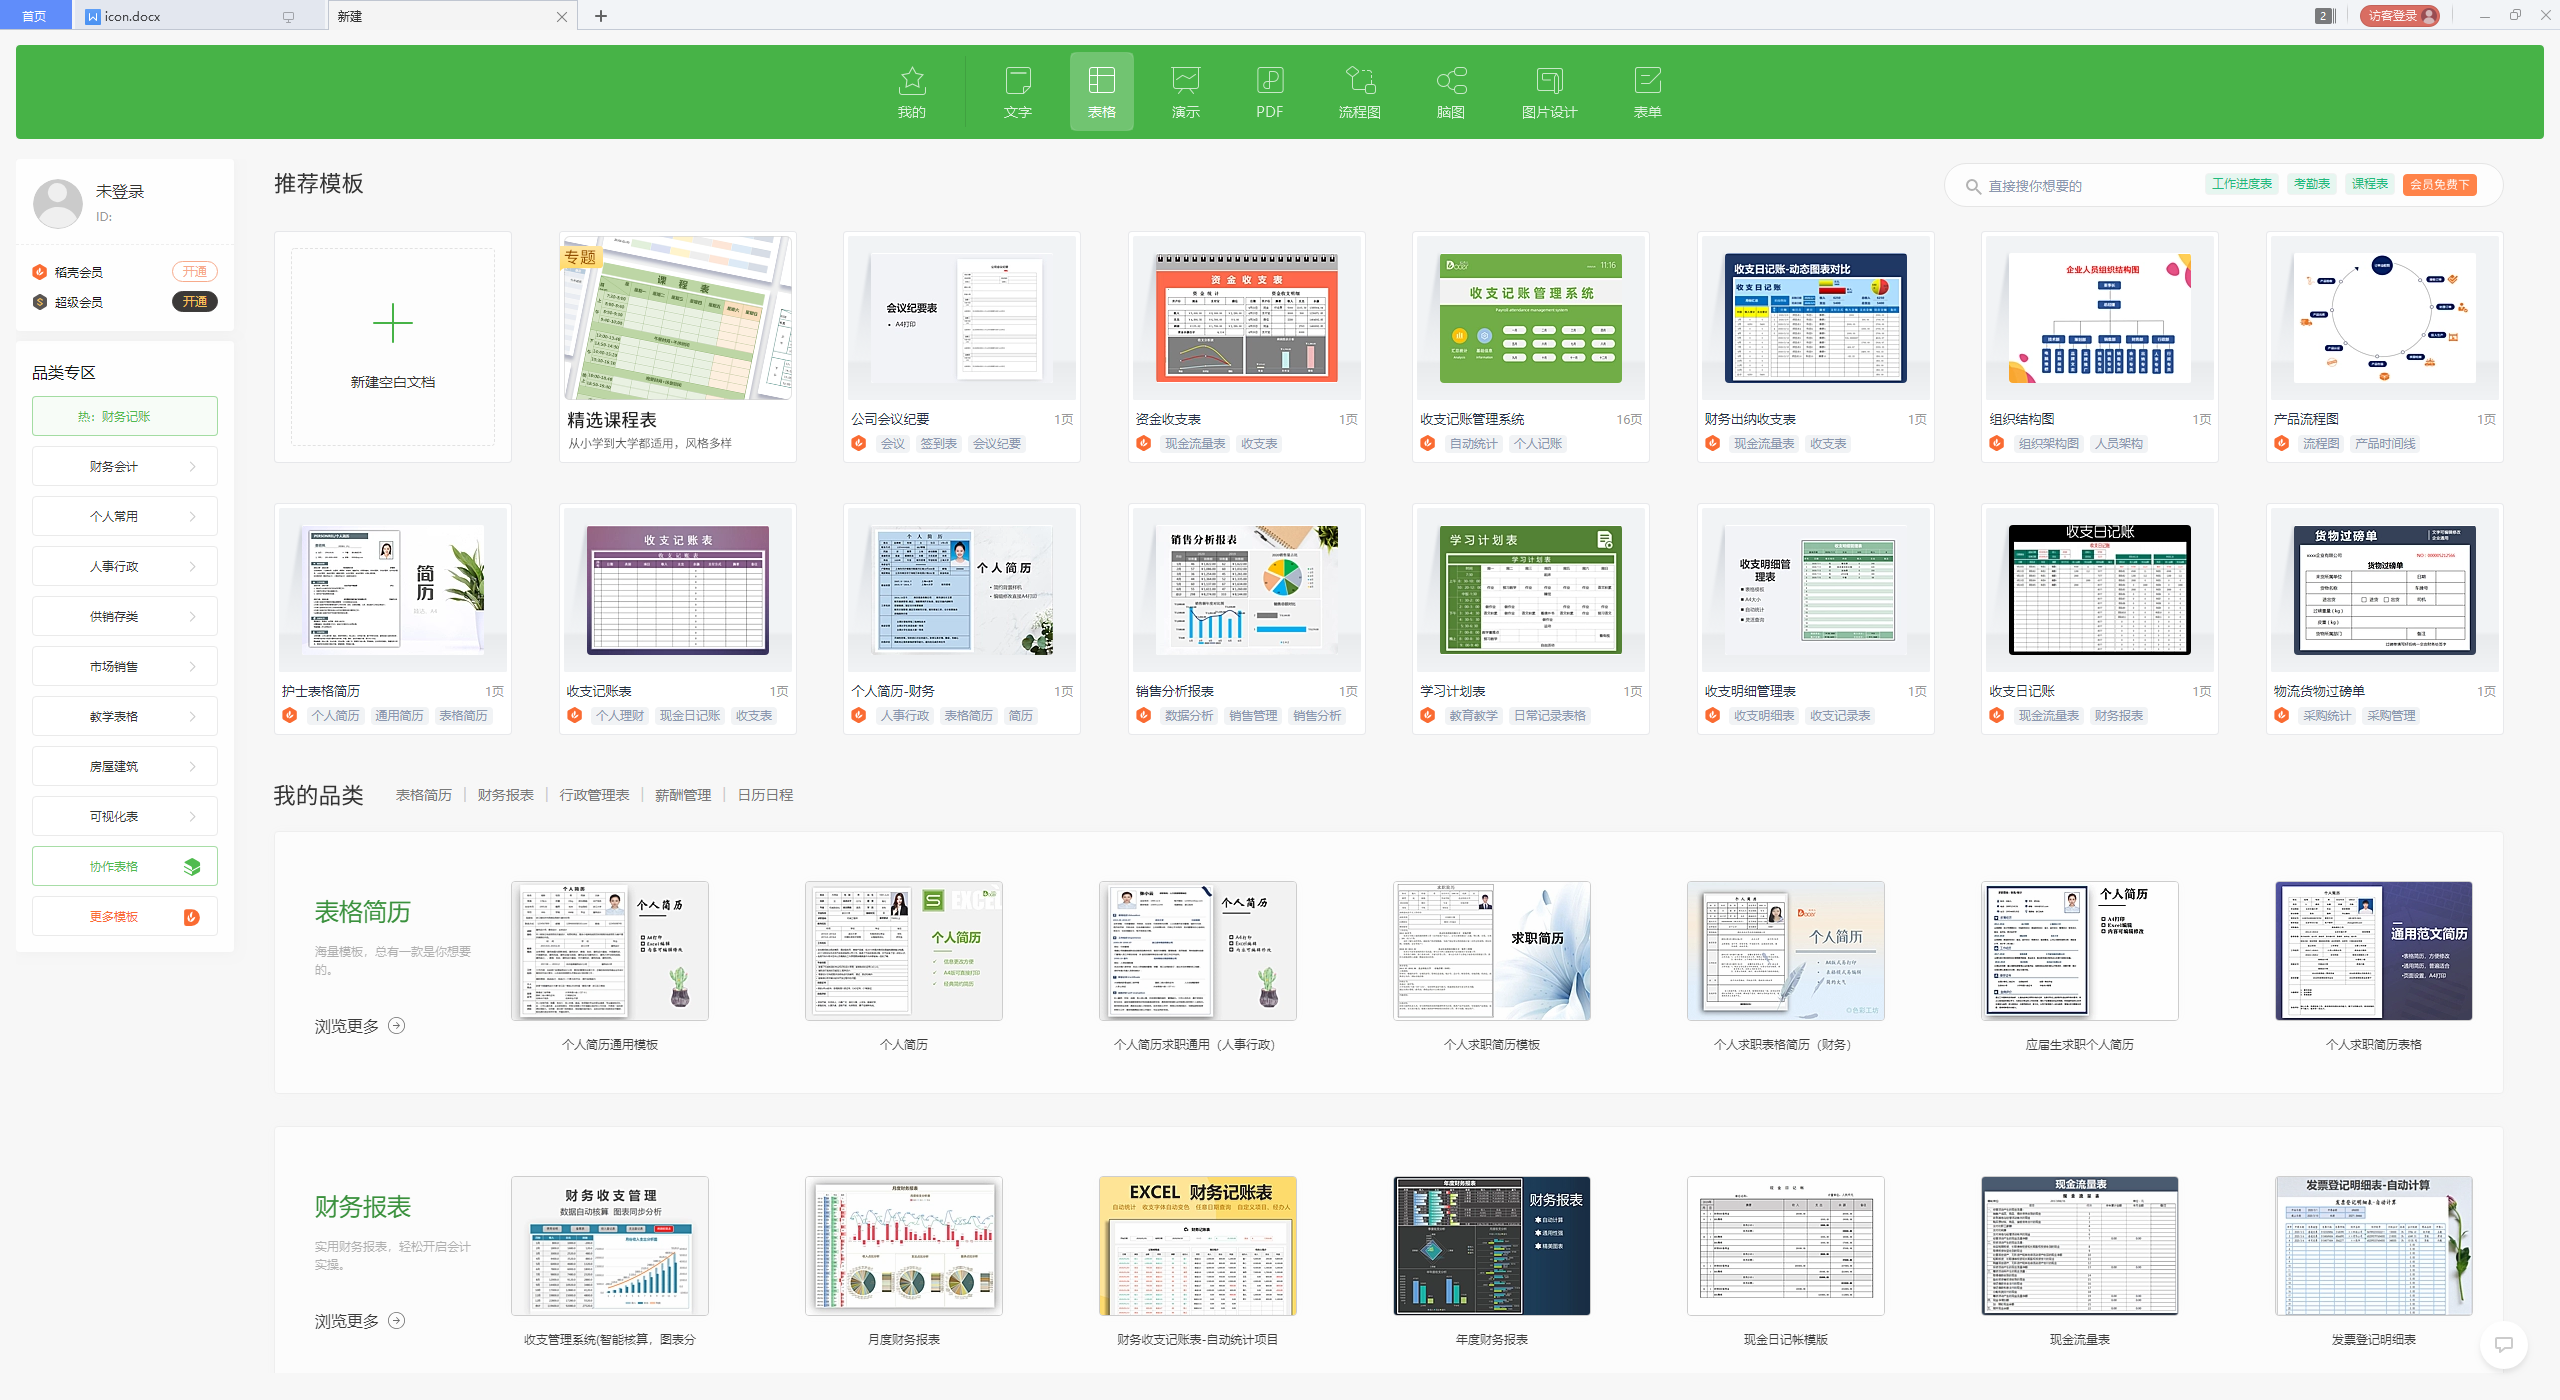character: (307, 1236, 478, 1276), (314, 943, 472, 978), (1114, 1034, 1277, 1055), (315, 1191, 414, 1222), (312, 895, 414, 924), (526, 1331, 705, 1347), (271, 779, 364, 809), (1114, 1331, 1283, 1347), (1708, 1036, 1860, 1053), (274, 171, 367, 198), (2322, 1033, 2424, 1055), (2022, 1034, 2139, 1053), (571, 438, 731, 452), (2327, 1329, 2426, 1352), (555, 1034, 662, 1053), (71, 403, 153, 428), (565, 410, 657, 429), (1739, 1328, 1831, 1347), (1415, 412, 1526, 428), (1439, 1038, 1550, 1053), (309, 1310, 379, 1334), (1703, 410, 1796, 428), (850, 679, 934, 698), (1993, 178, 2084, 195), (352, 372, 434, 391), (29, 362, 102, 383), (557, 784, 629, 805), (2269, 683, 2365, 698), (1701, 681, 1796, 697), (309, 1016, 376, 1036), (1988, 683, 2060, 702), (652, 783, 712, 805), (848, 410, 934, 426), (1453, 1331, 1531, 1348), (272, 684, 364, 698), (476, 784, 536, 805), (865, 1333, 945, 1348), (1133, 410, 1203, 428), (2270, 410, 2341, 428), (734, 784, 793, 805), (83, 855, 147, 874), (390, 784, 453, 803), (2050, 1329, 2114, 1348), (95, 181, 152, 202), (84, 655, 141, 676), (88, 807, 145, 828), (86, 903, 138, 926), (84, 505, 140, 526), (2369, 5, 2419, 28), (2408, 176, 2472, 193), (564, 683, 634, 698), (1520, 103, 1583, 121), (1138, 683, 1215, 697), (1415, 683, 1484, 698), (2014, 709, 2082, 724), (84, 755, 140, 774), (2355, 434, 2415, 452), (84, 455, 141, 472), (90, 557, 141, 576), (879, 1036, 931, 1055), (2208, 176, 2270, 191), (86, 707, 141, 724), (2015, 434, 2082, 448), (83, 609, 141, 624), (1734, 438, 1800, 452), (1164, 436, 1226, 450), (1508, 434, 1564, 450), (105, 12, 165, 26), (1450, 434, 1498, 452), (1515, 709, 1584, 721), (1988, 412, 2057, 424), (1734, 709, 1795, 722), (55, 293, 102, 310), (1229, 707, 1281, 722), (2093, 436, 2145, 452), (2301, 709, 2353, 724), (657, 709, 722, 721), (2350, 176, 2391, 195), (1338, 105, 1383, 122), (1160, 709, 1215, 722), (1289, 709, 1345, 722), (2363, 709, 2419, 722), (974, 436, 1022, 452), (53, 267, 107, 281), (1810, 709, 1870, 721), (1631, 103, 1669, 122), (309, 709, 360, 722), (2093, 709, 2145, 722), (376, 709, 426, 722), (595, 709, 645, 722), (945, 709, 995, 722), (2293, 176, 2332, 193), (438, 709, 490, 721), (879, 710, 929, 722), (1433, 103, 1467, 121), (2300, 436, 2343, 450), (919, 434, 957, 450), (1452, 710, 1500, 722), (1808, 436, 1850, 450), (16, 9, 52, 24), (734, 709, 772, 722), (895, 103, 927, 119), (1167, 105, 1200, 121), (181, 262, 210, 279), (1084, 105, 1115, 121), (1238, 438, 1277, 450), (877, 436, 905, 453), (336, 10, 365, 26), (1007, 102, 1031, 119), (1253, 105, 1288, 117), (1334, 410, 1358, 428), (1614, 414, 1643, 428), (1007, 709, 1034, 722), (183, 295, 207, 310), (2477, 410, 2498, 428), (765, 684, 790, 698), (1907, 684, 1931, 698), (2470, 686, 2498, 698), (1052, 410, 1072, 426), (1336, 683, 1357, 698), (481, 683, 503, 697), (1622, 683, 1641, 698), (2189, 412, 2213, 424), (95, 210, 116, 224), (1905, 412, 1927, 424), (2193, 684, 2212, 698), (1055, 686, 1072, 697)
icon: (560, 505, 790, 676), (848, 231, 1077, 400), (278, 509, 507, 678), (846, 503, 1076, 672), (1127, 234, 1357, 403), (1420, 233, 1650, 402), (1700, 234, 1929, 403), (1982, 234, 2212, 403), (2267, 234, 2496, 403), (1984, 507, 2213, 676), (1698, 509, 1927, 678), (1134, 509, 1364, 678), (1412, 509, 1641, 678), (564, 233, 791, 402), (2274, 505, 2501, 674), (1395, 879, 1602, 1024), (1982, 879, 2189, 1024), (1388, 1171, 1595, 1316), (1681, 1172, 1888, 1317), (505, 878, 710, 1022), (509, 1172, 714, 1317), (803, 1172, 1008, 1317), (1981, 1172, 2186, 1317), (1095, 878, 1302, 1021), (2274, 879, 2481, 1022), (2277, 1174, 2484, 1317), (798, 878, 1003, 1021), (1689, 879, 1895, 1022), (1096, 1174, 1302, 1317), (29, 178, 83, 231), (369, 302, 415, 348), (1169, 64, 1202, 97), (1084, 64, 1119, 95), (1434, 66, 1469, 97), (1002, 66, 1034, 97), (896, 64, 927, 97), (1345, 66, 1377, 97), (1633, 66, 1664, 95), (1255, 66, 1284, 95), (1533, 67, 1564, 95), (2493, 1334, 2517, 1357), (1964, 176, 1984, 197), (2419, 5, 2439, 26), (2474, 5, 2494, 24), (2313, 7, 2336, 24), (279, 705, 298, 724), (565, 705, 584, 724), (183, 857, 202, 876), (386, 1016, 405, 1034), (386, 1310, 405, 1329), (2536, 5, 2555, 22), (848, 434, 867, 452), (848, 705, 867, 722), (1134, 705, 1152, 724), (1419, 705, 1436, 724), (1703, 705, 1720, 724), (183, 909, 202, 926), (31, 293, 48, 310), (2507, 5, 2524, 22), (1134, 434, 1152, 452), (1419, 434, 1436, 452), (1703, 434, 1720, 452), (1988, 434, 2005, 452), (2272, 434, 2289, 452), (183, 609, 202, 624), (84, 9, 102, 24), (591, 7, 609, 22), (183, 659, 200, 674), (183, 709, 200, 724), (183, 559, 200, 574), (183, 459, 200, 474), (1988, 707, 2005, 722), (2274, 707, 2289, 724), (31, 264, 47, 279), (184, 509, 200, 524), (184, 809, 200, 824), (183, 759, 200, 772), (553, 9, 569, 22), (281, 10, 295, 22), (2377, 371, 2389, 379)
